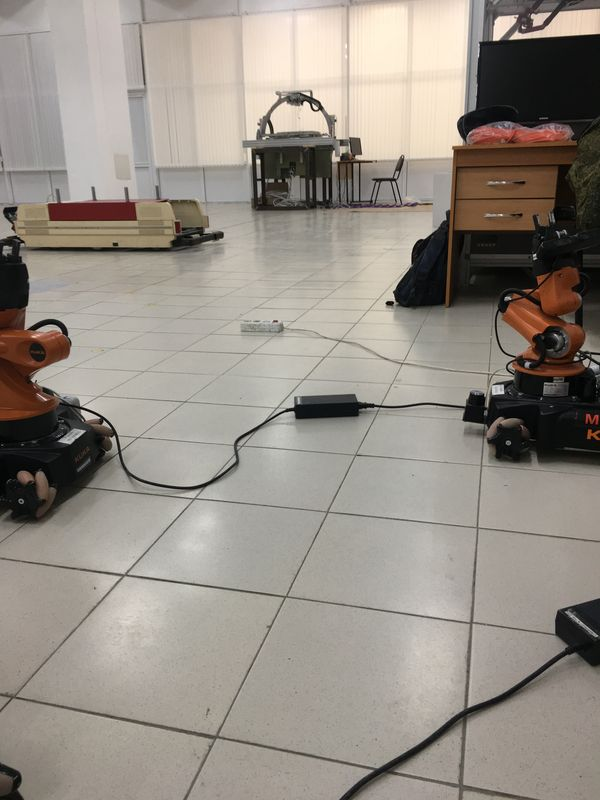socket: (239, 317, 286, 336)
